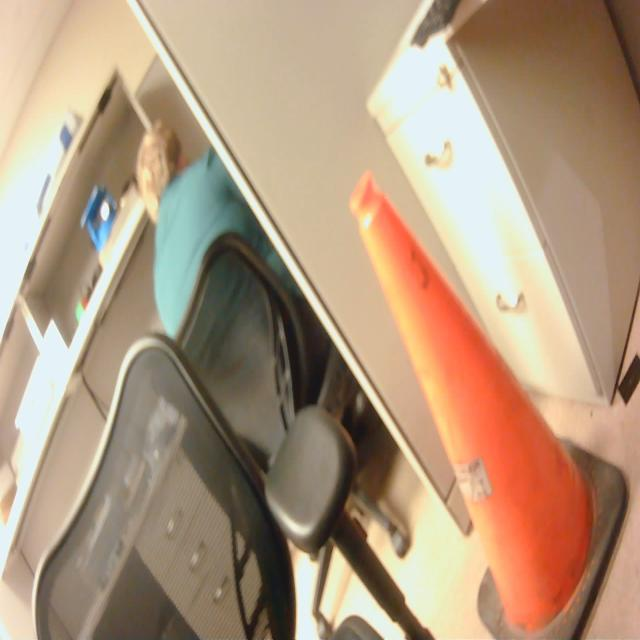traffic cone: (347, 164, 635, 640)
